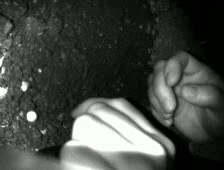corn: (24, 109, 39, 124), (18, 78, 31, 92)
